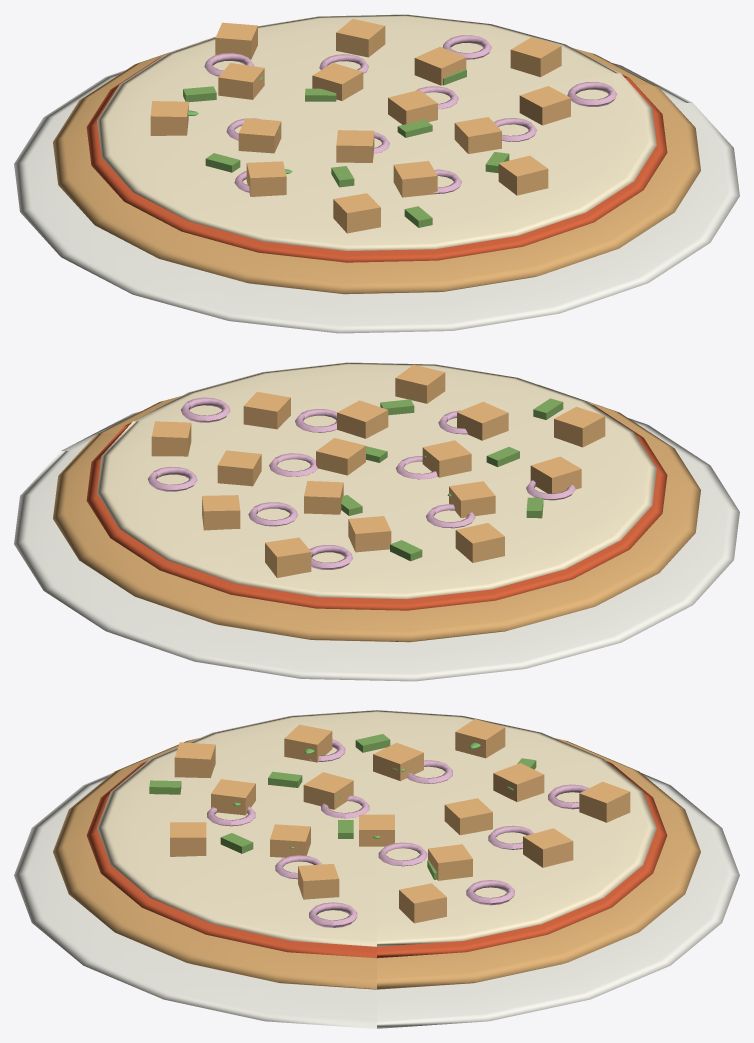
File: tandoori-paneer-pizza.glb
3 views of the same model, one above another, from view 1: azimuth 30°, elevation 25°; view 2: azimuth 150°, elevation 25°; view 3: azimuth 270°, elevation 25° (orthographic).
Parts seen in each view (by area): view 1: tandoori-paneer-pizza; view 2: tandoori-paneer-pizza; view 3: tandoori-paneer-pizza.
Part boxes in pixels (<box>): tandoori-paneer-pizza: <box>14,14,739,333</box>; tandoori-paneer-pizza: <box>14,362,739,681</box>; tandoori-paneer-pizza: <box>14,710,739,1028</box>.
Size of the model in its own units: 0.28 by 0.034 by 0.28.
